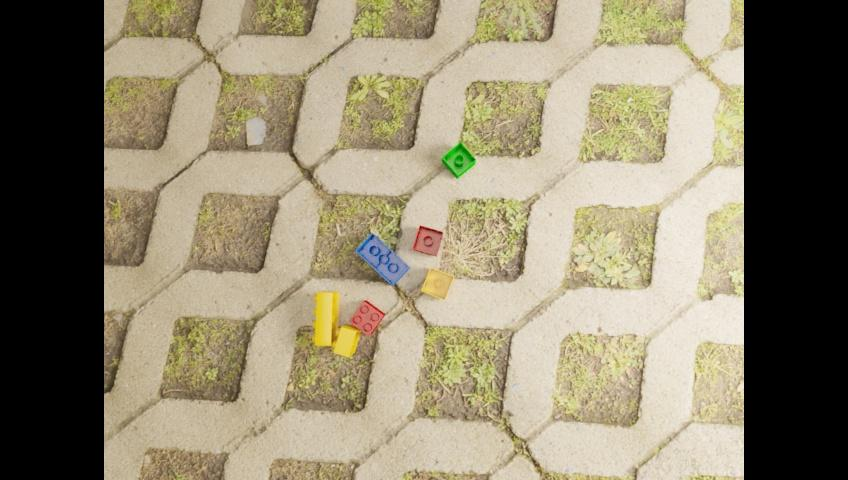2x2_green: (442, 141, 475, 178)
2x2_red: (348, 299, 385, 336), (412, 224, 442, 255)
2x2_yellow: (422, 266, 453, 300), (332, 324, 360, 356)
4x2_blue: (355, 233, 409, 285)
4x2_yellow: (312, 291, 340, 345)
